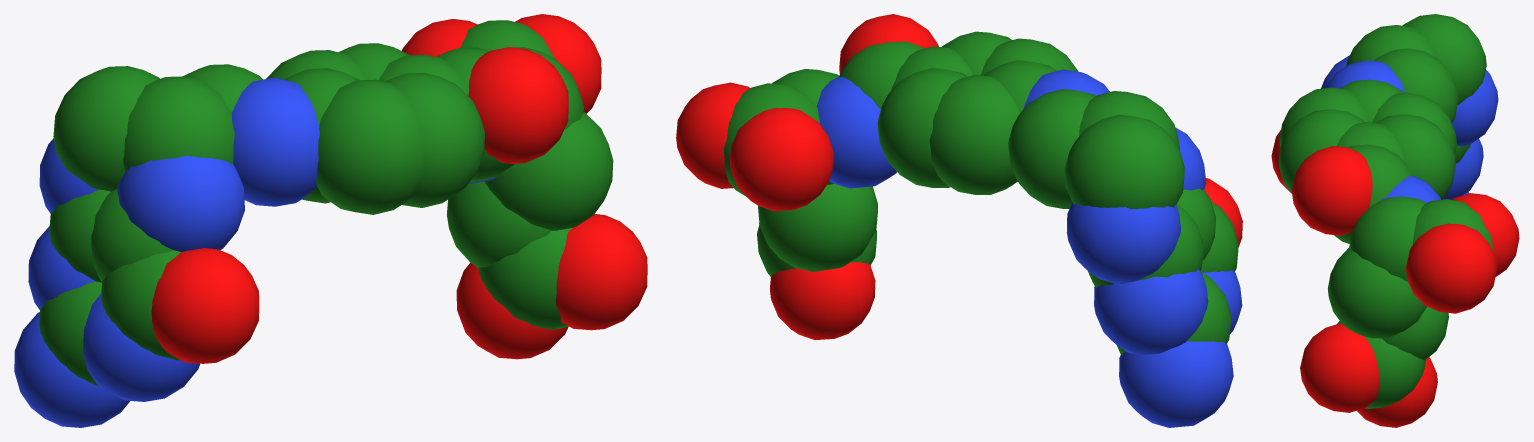
Rendered from THF.dae.
The picture shows the model from 3 angles, left to right: view 1: azimuth 30°, elevation 25°; view 2: azimuth 150°, elevation 25°; view 3: azimuth 270°, elevation 25°; orthographic projection. The views are drawn at different scales.
Visible parts, largest first — view 1: subnode_24, subnode_0, subnode_6, subnode_8, subnode_1, subnode_22, subnode_5, subnode_14, subnode_13, subnode_27, subnode_12, subnode_10 (+19 smaller); view 2: subnode_14, subnode_23, subnode_3, subnode_12, subnode_28, subnode_9, subnode_7, subnode_15, subnode_4, subnode_26, subnode_11, subnode_2 (+18 smaller); view 3: subnode_2, subnode_22, subnode_1, subnode_5, subnode_21, subnode_14, subnode_26, subnode_27, subnode_15, subnode_31, subnode_3, subnode_4 (+14 smaller).
Boxes of the visible parts, box(x1,y1,x2,y2) form: subnode_24: box(316, 79, 422, 214); subnode_0: box(151, 248, 259, 363); subnode_6: box(117, 155, 244, 252); subnode_8: box(231, 77, 319, 206); subnode_1: box(468, 47, 568, 163); subnode_22: box(484, 112, 613, 230); subnode_5: box(556, 214, 647, 330); subnode_14: box(53, 66, 159, 191); subnode_13: box(123, 76, 234, 171); subnode_27: box(386, 73, 484, 207); subnode_12: box(14, 312, 129, 427); subnode_10: box(83, 293, 199, 401); subnode_14: box(1064, 114, 1184, 208); subnode_23: box(929, 75, 1019, 194); subnode_3: box(730, 108, 833, 211); subnode_12: box(1119, 341, 1233, 427); subnode_28: box(758, 184, 877, 271); subnode_9: box(1094, 269, 1208, 355); subnode_7: box(1066, 202, 1180, 284); subnode_15: box(1008, 89, 1095, 208); subnode_4: box(770, 262, 875, 340); subnode_26: box(877, 68, 967, 187); subnode_11: box(816, 76, 896, 188); subnode_2: box(676, 82, 749, 188); subnode_2: box(1405, 223, 1497, 313); subnode_22: box(1328, 247, 1426, 338); subnode_1: box(1291, 146, 1372, 235); subnode_5: box(1300, 323, 1379, 412); subnode_21: box(1349, 196, 1426, 281); subnode_14: box(1402, 14, 1486, 104); subnode_26: box(1375, 114, 1455, 199); subnode_27: box(1278, 109, 1364, 193); subnode_15: box(1374, 48, 1458, 123); subnode_31: box(1337, 321, 1425, 408); subnode_3: box(1452, 193, 1519, 276); subnode_4: box(1357, 357, 1437, 427).
Size of the model in its own units: 17.03 by 9.7 by 8.12.
